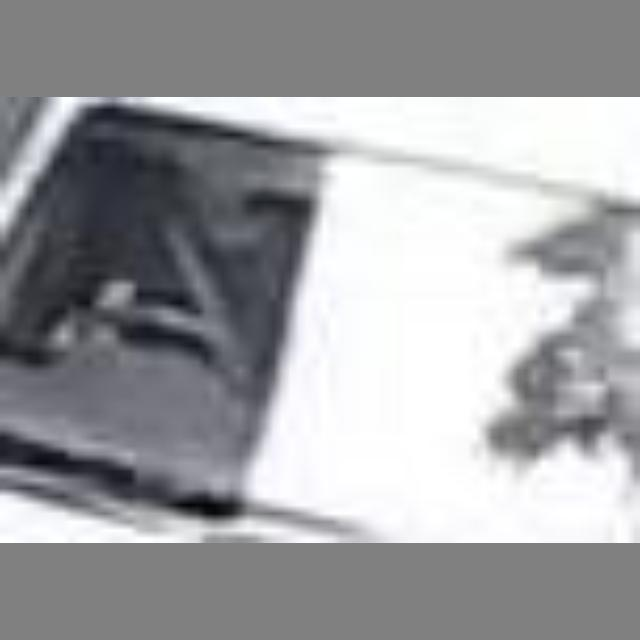pakai: (93, 156, 269, 392)
